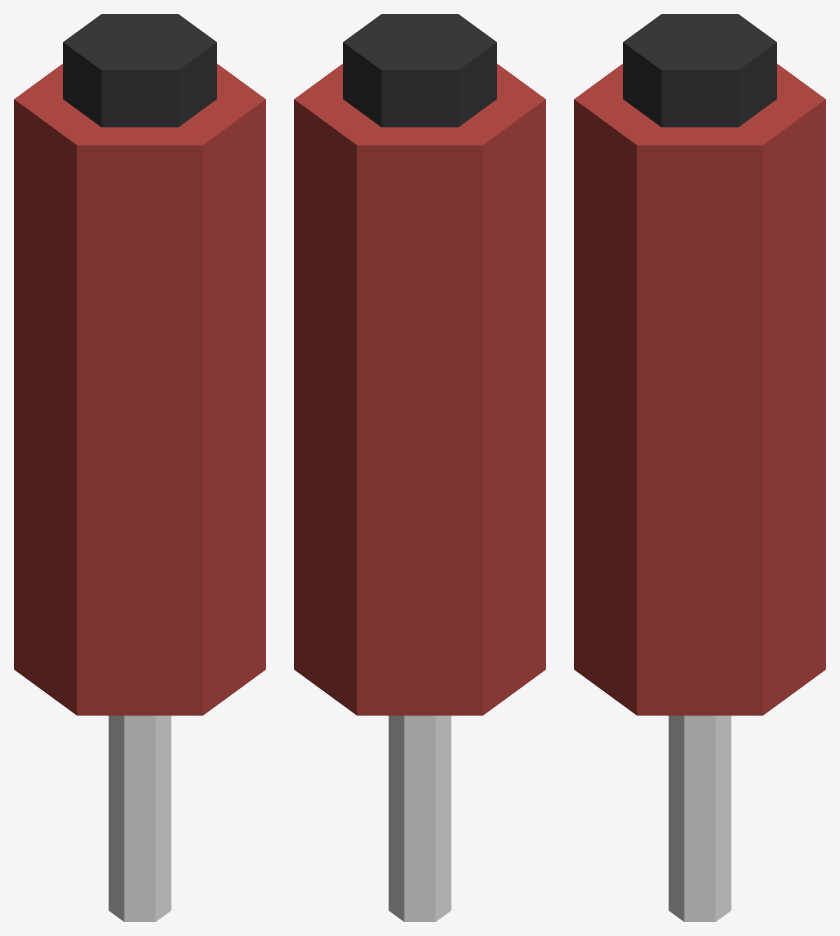
Rendered from mono_shock_mx_lod2.glb.
The picture shows the model from 3 angles, left to right: view 1: azimuth 30°, elevation 25°; view 2: azimuth 150°, elevation 25°; view 3: azimuth 270°, elevation 25°; orthographic projection.
Visible parts, largest first — view 1: mono_shock_mx_lod2; view 2: mono_shock_mx_lod2; view 3: mono_shock_mx_lod2.
Part boxes in pixels (x1,y1,x2,y2): mono_shock_mx_lod2: (14, 14, 265, 921); mono_shock_mx_lod2: (294, 14, 545, 921); mono_shock_mx_lod2: (574, 14, 825, 921).
Size of the model in its own units: 0.0624 by 0.274 by 0.072.
